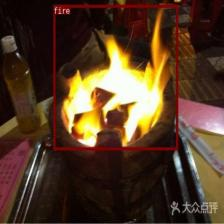fire: (54, 5, 178, 149)
